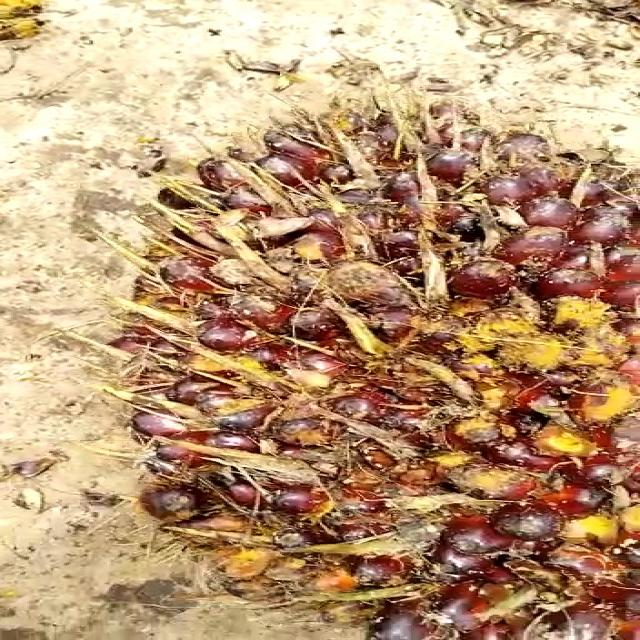palm oil: (114, 94, 640, 640)
